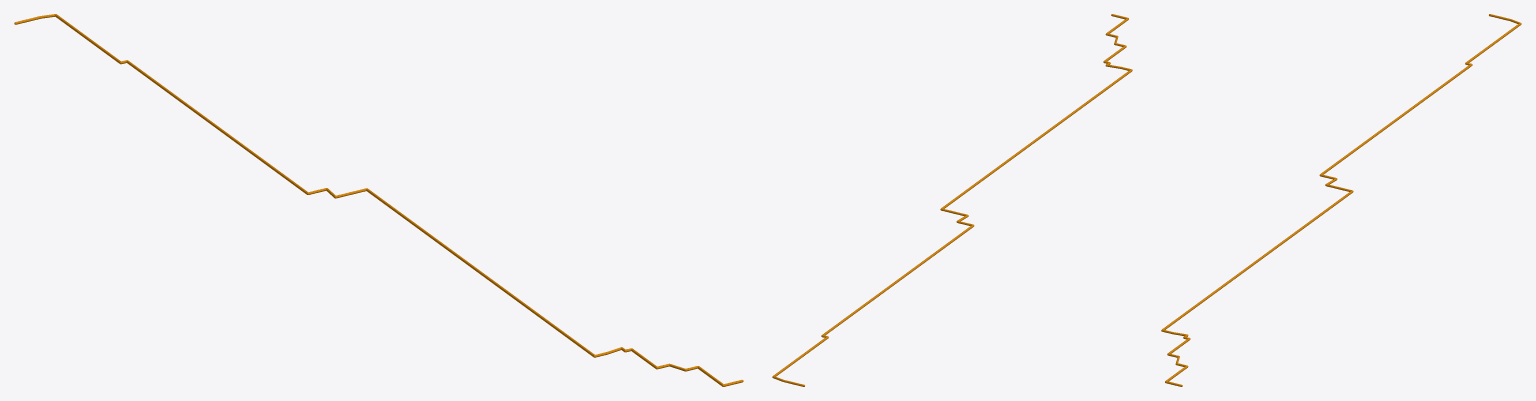
The picture shows the model from 3 angles, left to right: view 1: azimuth 30°, elevation 25°; view 2: azimuth 150°, elevation 25°; view 3: azimuth 330°, elevation 25°; orthographic projection. The views are drawn at different scales.
Bounding box in the file's own units: 1444 × 20 × 7597.
